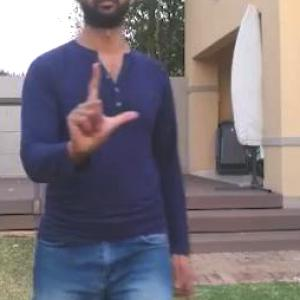land_hand: (57, 52, 142, 162)
